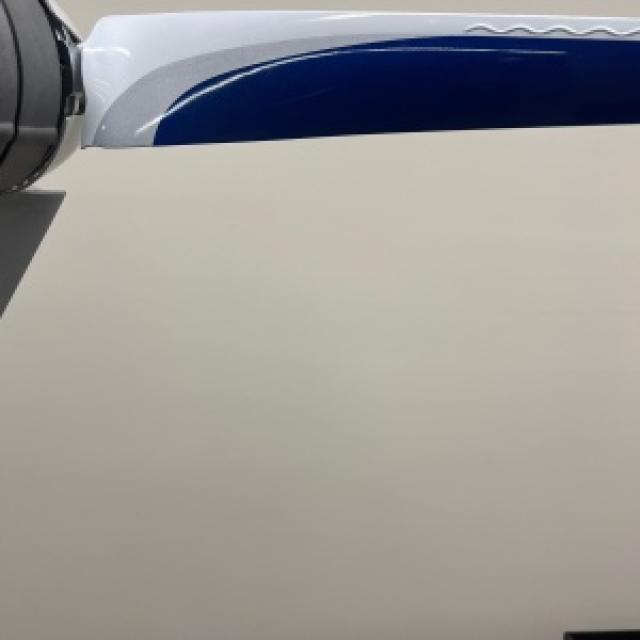healthy: (0, 126, 638, 638)
